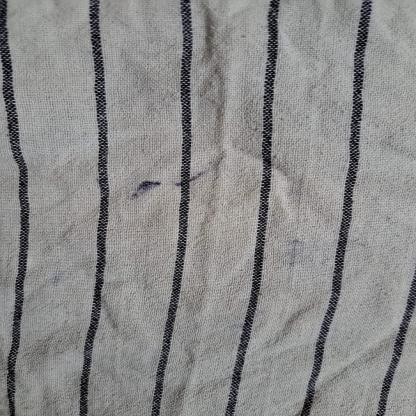spot: (277, 237, 335, 268), (190, 170, 214, 186), (136, 178, 162, 191), (46, 271, 67, 287), (127, 192, 148, 202), (171, 177, 182, 188)
